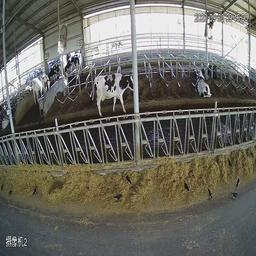cow: (95, 65, 142, 113), (29, 69, 52, 111), (194, 65, 213, 102)
